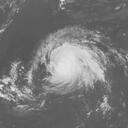cyclone: (34, 24, 111, 100)
